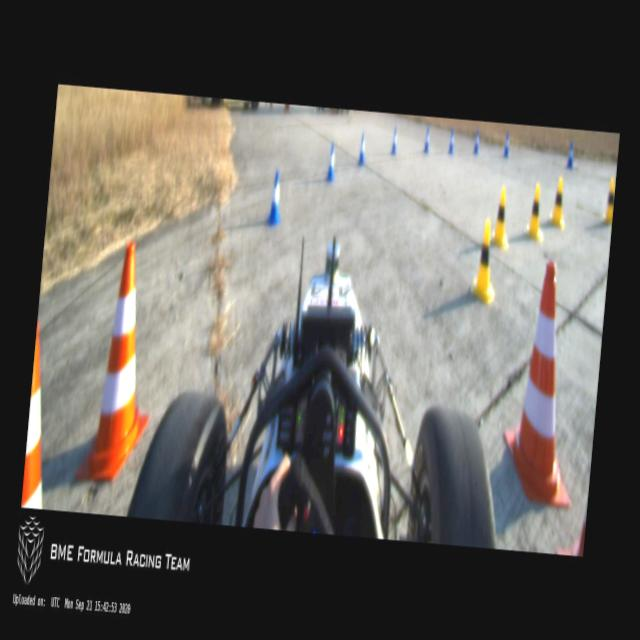blue_cone: (264, 168, 286, 228), (323, 142, 338, 182), (357, 132, 367, 166), (446, 128, 456, 156), (565, 142, 575, 169), (422, 125, 431, 154), (389, 128, 398, 156), (502, 132, 512, 156), (472, 130, 481, 154)
large_orange_cone: (498, 257, 592, 508), (72, 237, 162, 491), (21, 316, 58, 506)
yellow_cone: (470, 218, 500, 302), (489, 184, 513, 250), (523, 182, 547, 242), (547, 175, 568, 229), (601, 177, 615, 224)
